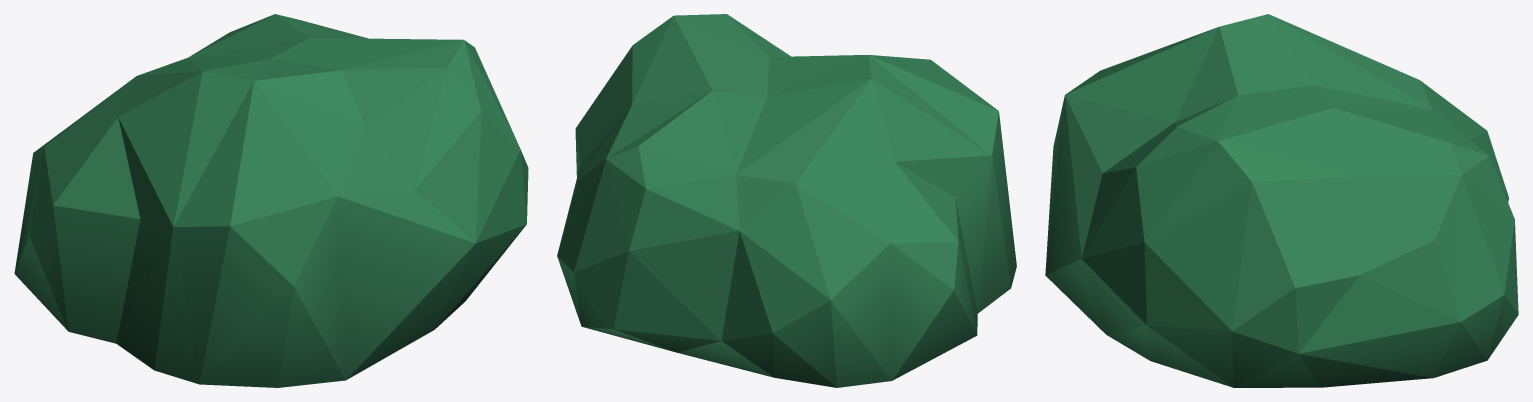
The model's file is Bush1.fbx.
The picture shows the model from 3 angles, left to right: view 1: azimuth 30°, elevation 25°; view 2: azimuth 150°, elevation 25°; view 3: azimuth 270°, elevation 25°; orthographic projection. The views are drawn at different scales.
Parts seen in each view (by area): view 1: Bush1; view 2: Bush1; view 3: Bush1.
Part boxes in pixels (x1,y1,x2,y2): Bush1: [14, 14, 528, 387]; Bush1: [557, 14, 1016, 387]; Bush1: [1045, 14, 1518, 387].
Bounding box in the file's own units: 2.01 × 1.83 × 1.05.
